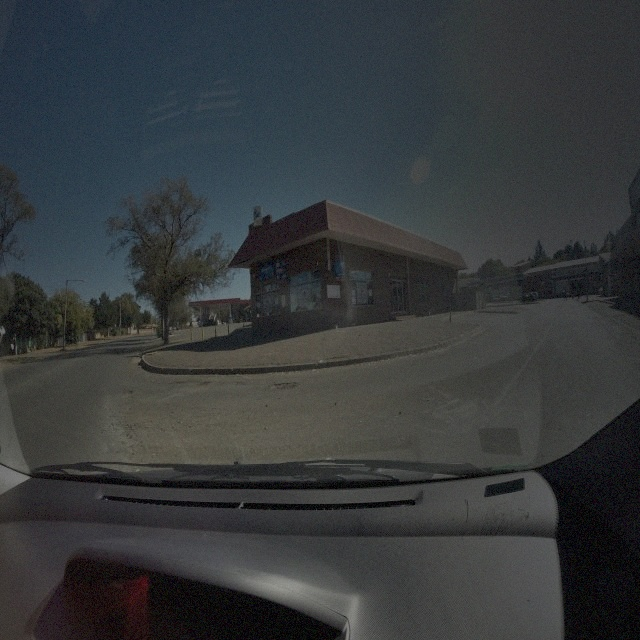pothole: (267, 382, 298, 391), (198, 379, 210, 387), (170, 380, 184, 385), (124, 389, 132, 396)
